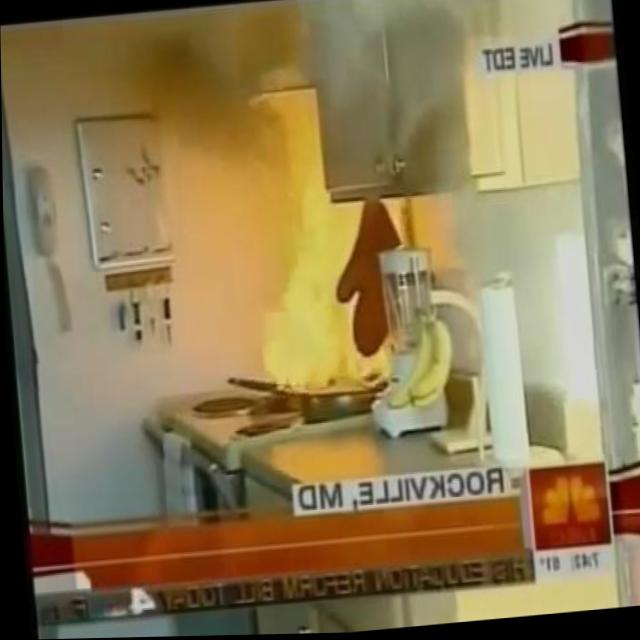fire: (246, 186, 361, 394)
